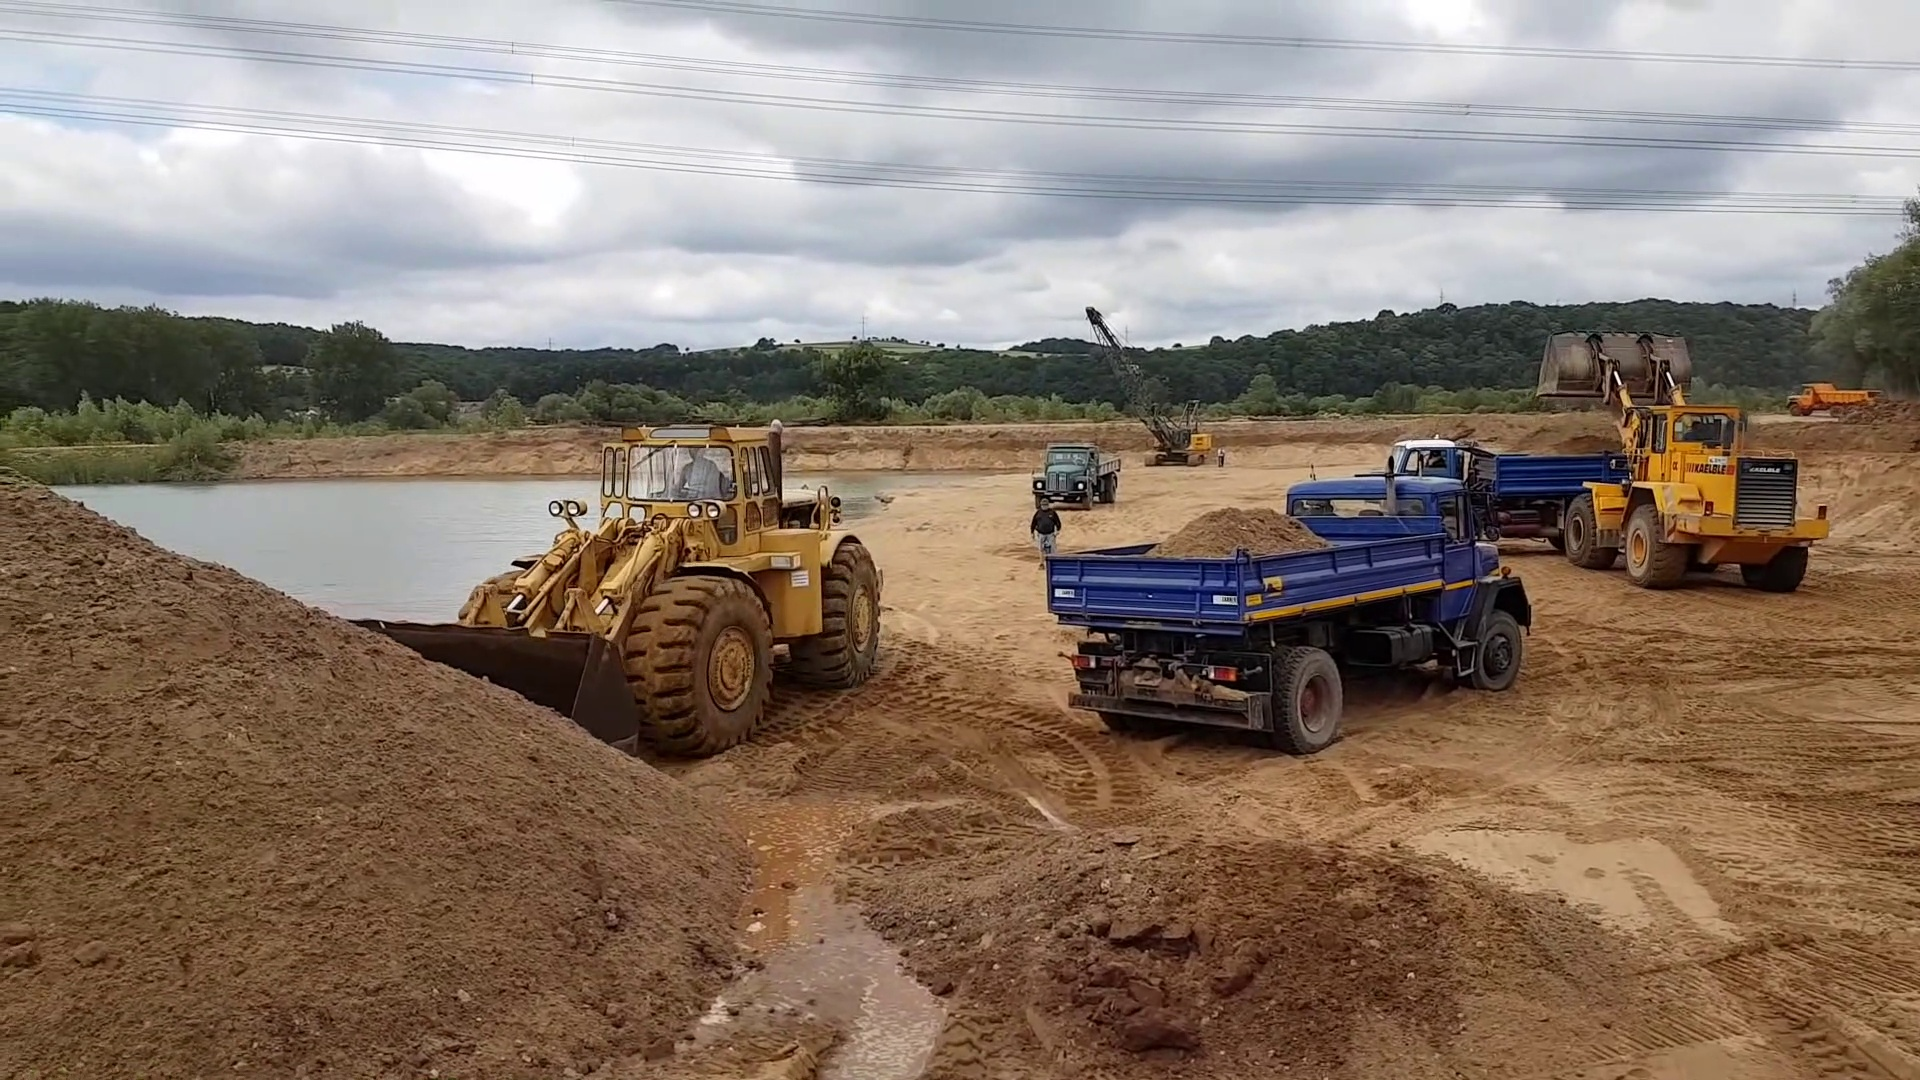truck: (1046, 520, 1534, 752), (1371, 438, 1636, 541), (1033, 442, 1118, 506), (1785, 386, 1880, 419)
wheel loader: (320, 419, 882, 764), (1538, 332, 1838, 596)
